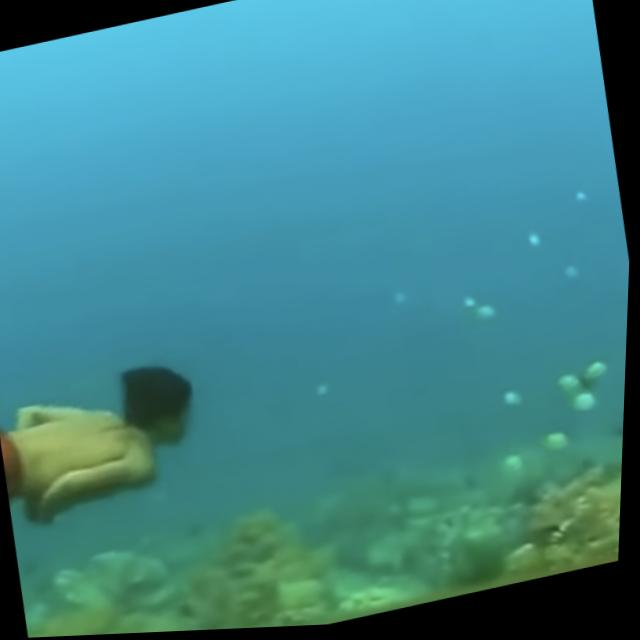human: (0, 346, 227, 552)
